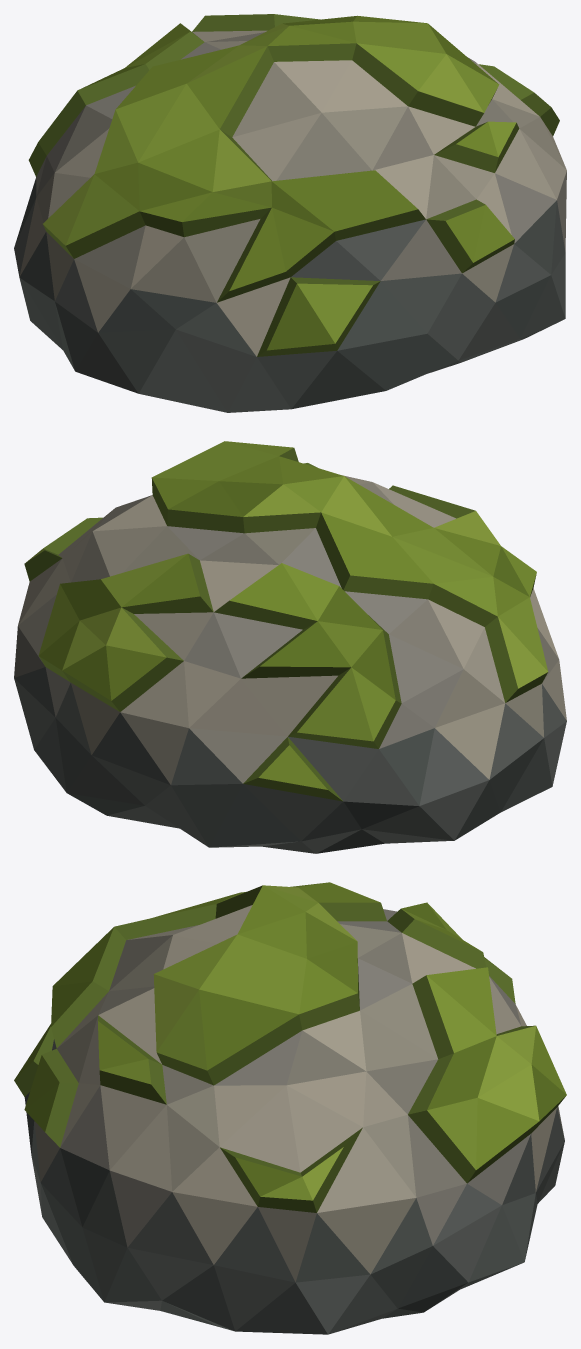
The model's file is river_boulder.glb.
3 views of the same model, one above another, from view 1: azimuth 30°, elevation 25°; view 2: azimuth 150°, elevation 25°; view 3: azimuth 270°, elevation 25° (orthographic). The views are drawn at different scales.
Parts seen in each view (by area): view 1: river_boulder; view 2: river_boulder; view 3: river_boulder.
Part boxes in pixels (bbox=[...]): river_boulder: bbox=[14, 14, 566, 412]; river_boulder: bbox=[14, 441, 566, 853]; river_boulder: bbox=[14, 882, 566, 1334].
Bounding box in the file's own units: 2.57 × 1.38 × 2.24.
